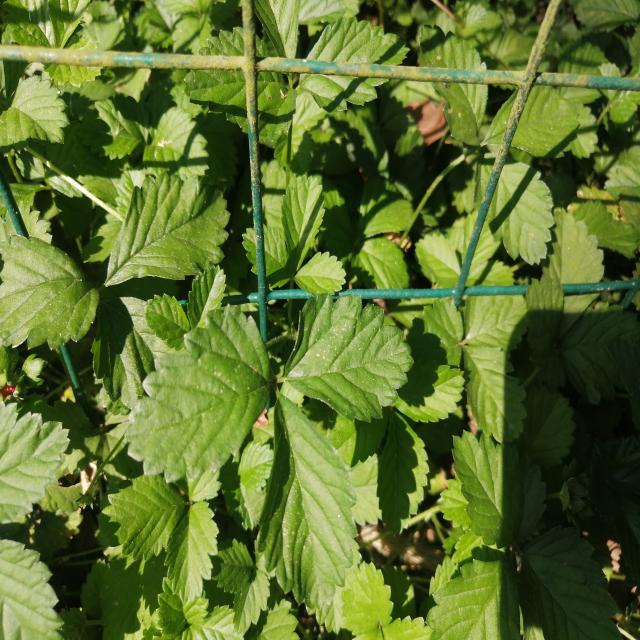Mock_strawberry: (142, 301, 409, 596)
